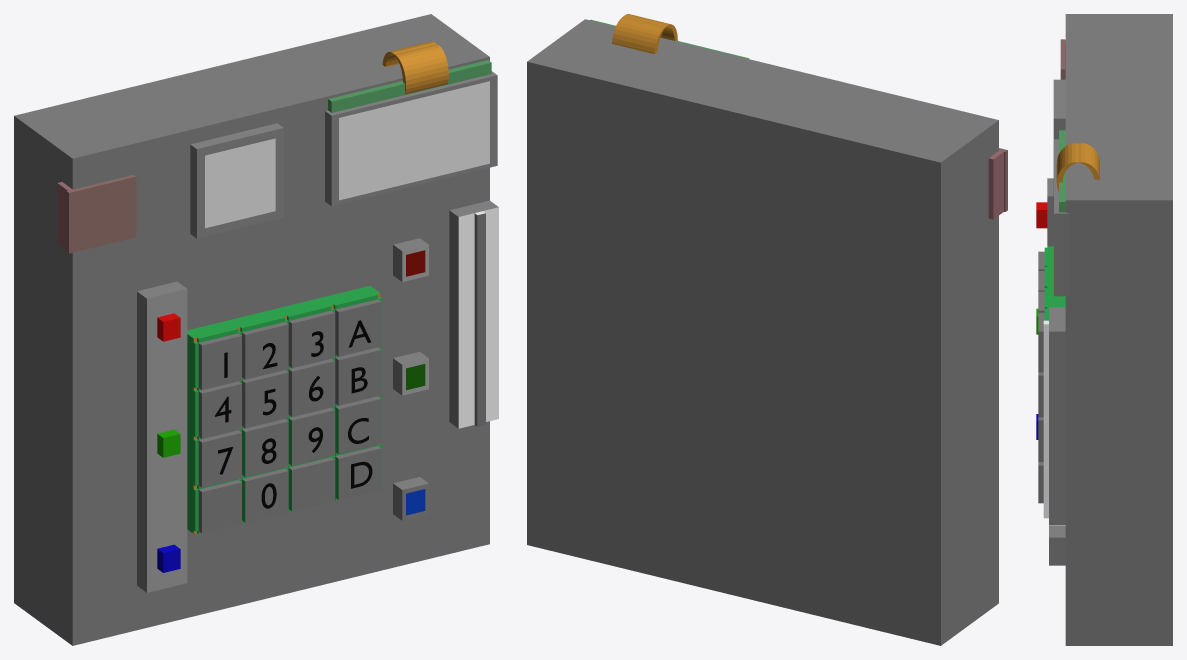
File: New Bomb.fbx
3 views of the same model, side by side, from view 1: azimuth 30°, elevation 25°; view 2: azimuth 150°, elevation 25°; view 3: azimuth 270°, elevation 25° (orthographic). The views are drawn at different scales.
Parts seen in each view (by area): view 1: Cube, Cube.001, Cube.008, Cube.002, Cube.003, Cube.007, Cube.010, Cube.009, Cube.004, Cube.006, Cube.005, Cube.011; view 2: Cube, Cube.001, Cube.011; view 3: Cube, Cube.003, Cube.001, Cube.008, Cube.007, Cube.006, Cube.002, Cube.009, Cube.012, Cube.010.
Part boxes in pixels (x1,y1,x2,y2): Cube: (14, 14, 489, 645); Cube.001: (187, 41, 448, 533); Cube.008: (325, 71, 497, 206); Cube.002: (137, 281, 187, 592); Cube.003: (449, 200, 498, 428); Cube.007: (190, 123, 283, 238); Cube.010: (66, 175, 136, 253); Cube.009: (328, 60, 491, 112); Cube.004: (393, 238, 428, 281); Cube.006: (393, 477, 428, 520); Cube.005: (393, 351, 428, 395); Cube.011: (57, 182, 74, 249); Cube: (527, 19, 998, 645); Cube.001: (612, 14, 677, 53); Cube.011: (988, 150, 1004, 219); Cube: (1065, 14, 1172, 645); Cube.003: (1043, 313, 1065, 525); Cube.001: (1038, 143, 1099, 503); Cube.008: (1054, 139, 1068, 296); Cube.007: (1053, 79, 1065, 200); Cube.006: (1049, 525, 1065, 565); Cube.002: (1047, 178, 1053, 246); Cube.009: (1059, 130, 1065, 212); Cube.012: (1036, 202, 1047, 228); Cube.010: (1060, 39, 1065, 79).
Size of the model in its own units: 95.71 by 109 by 29.18.
